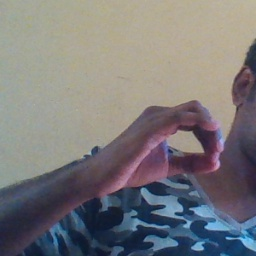O: (107, 97, 229, 192)
